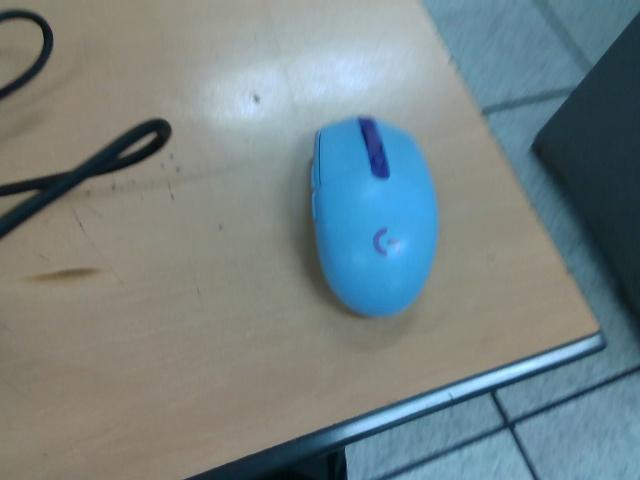mouse: (309, 116, 440, 320)
